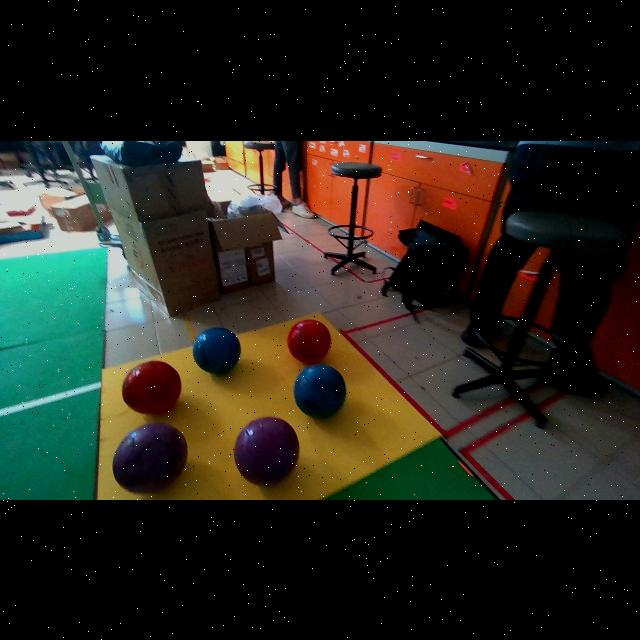B: (294, 364, 346, 418), (193, 327, 241, 373)
P: (112, 422, 188, 493), (234, 417, 299, 485)
R: (124, 360, 182, 413), (287, 318, 331, 363)
